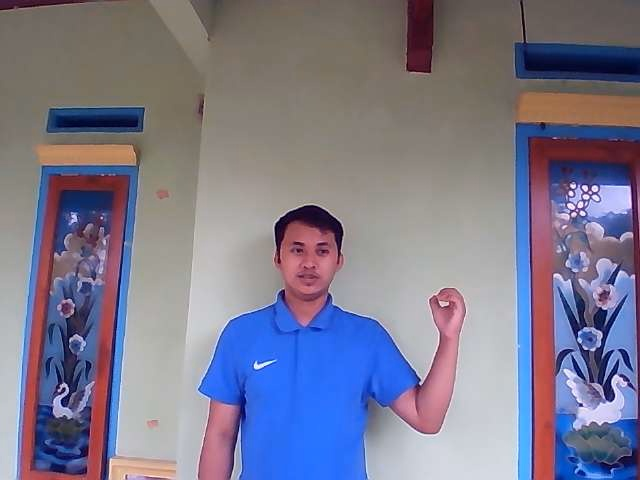O: (428, 286, 468, 343)
